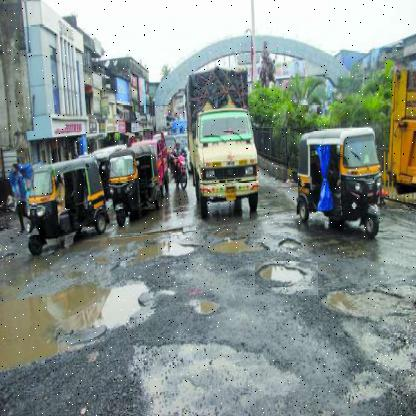pothole_water: (310, 265, 410, 336), (172, 276, 236, 339), (254, 257, 318, 296)
